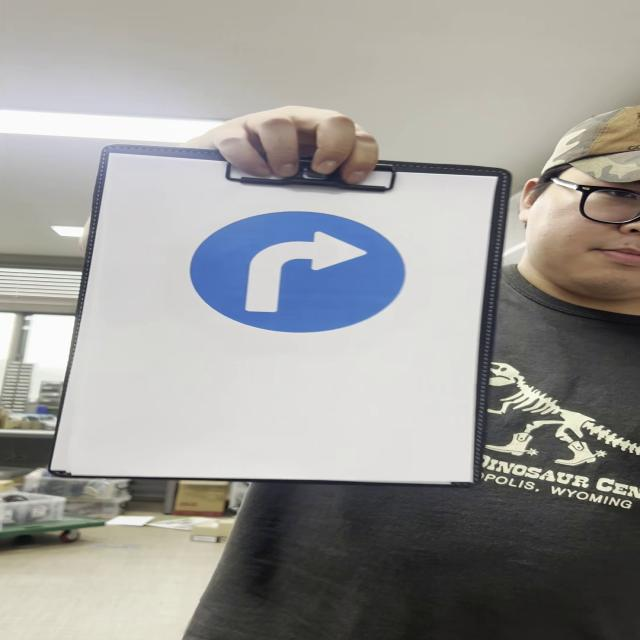right: (189, 213, 411, 334)
